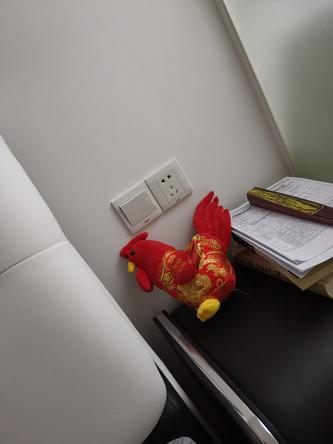switch: (121, 202, 158, 223)
